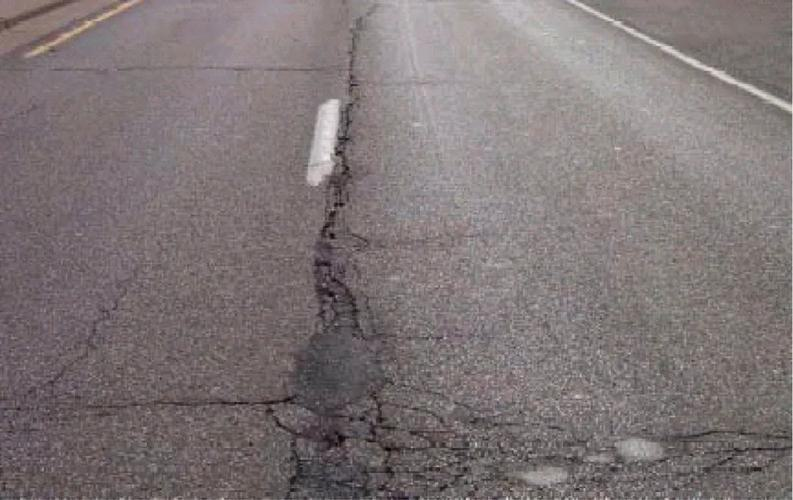Crack: (311, 1, 381, 330), (43, 262, 140, 393), (49, 63, 310, 76), (85, 395, 268, 410)
Spalling: (268, 331, 793, 500)
